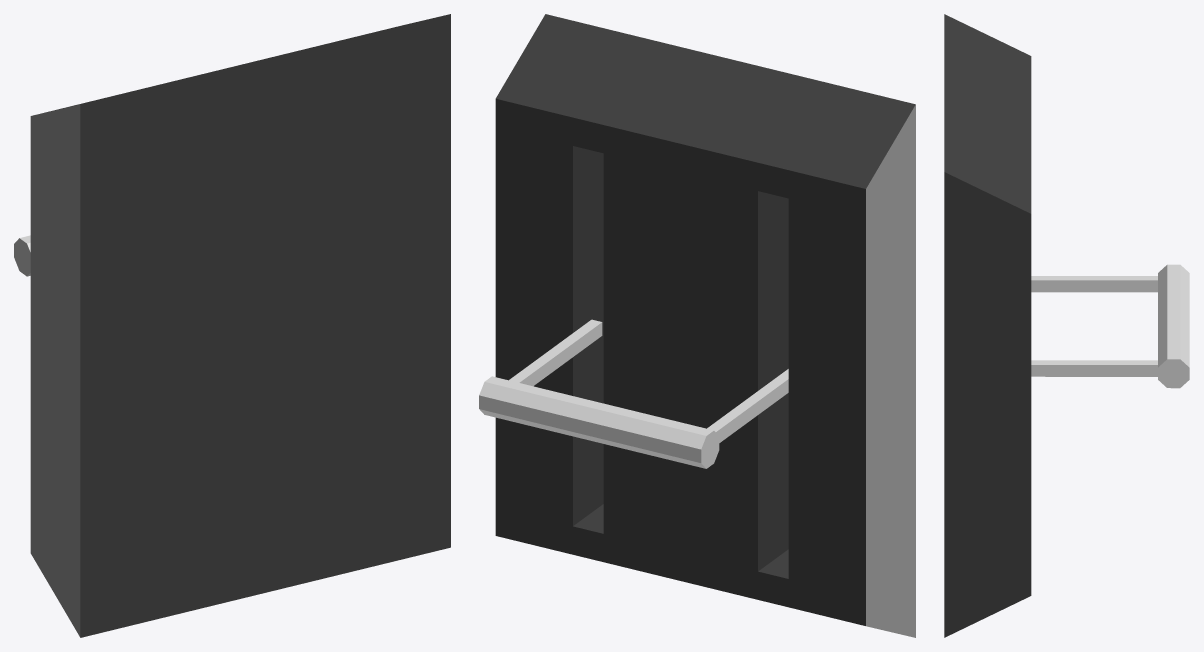
File: Lever.fbx
3 renders of one model, left to right at view 1: azimuth 30°, elevation 25°; view 2: azimuth 150°, elevation 25°; view 3: azimuth 270°, elevation 25°, orthographic. The views are drawn at different scales.
Visible parts, largest first — view 1: LeverBase; view 2: LeverBase, LeverHandle; view 3: LeverBase, LeverHandle.
Part boxes in pixels (x1=…): LeverBase: x1=30, y1=14, x2=450, y2=637; LeverBase: x1=495, y1=14, x2=915, y2=637; LeverHandle: x1=479, y1=319, x2=788, y2=468; LeverBase: x1=944, y1=14, x2=1031, y2=637; LeverHandle: x1=1031, y1=264, x2=1189, y2=388.
Bounding box in the file's own units: 0.3632 × 0.5 × 0.2386.
